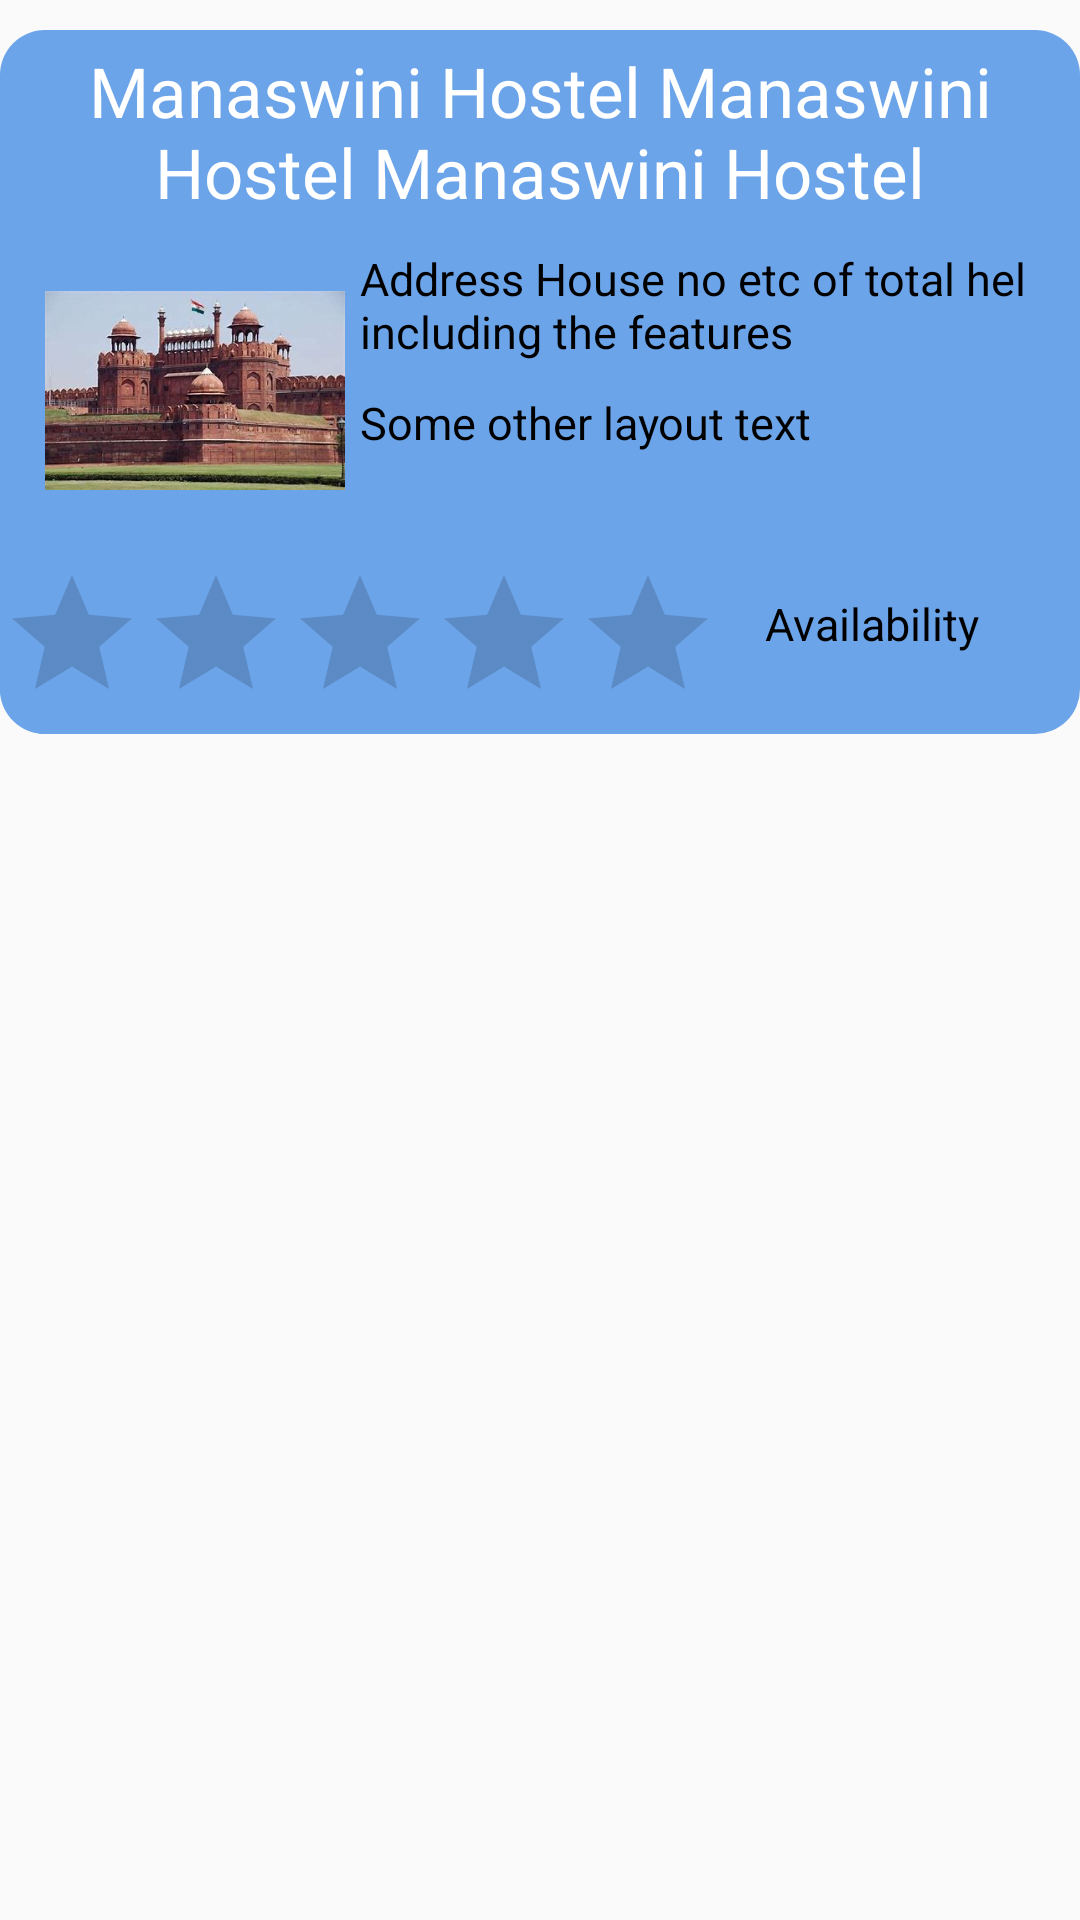

Named icons in this screenshot (1080×1920) and their bounding boxes, (x1, y1, x2, y2):
delhi: (45, 291, 345, 490)
